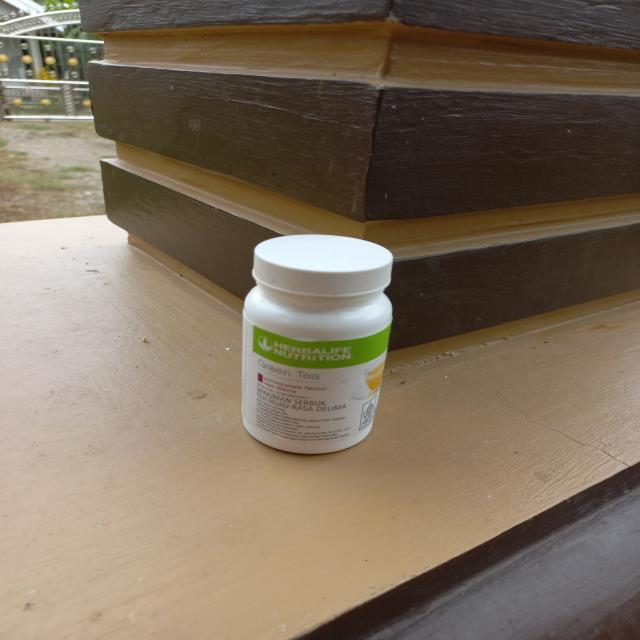Green-Tea: (218, 222, 418, 468)
